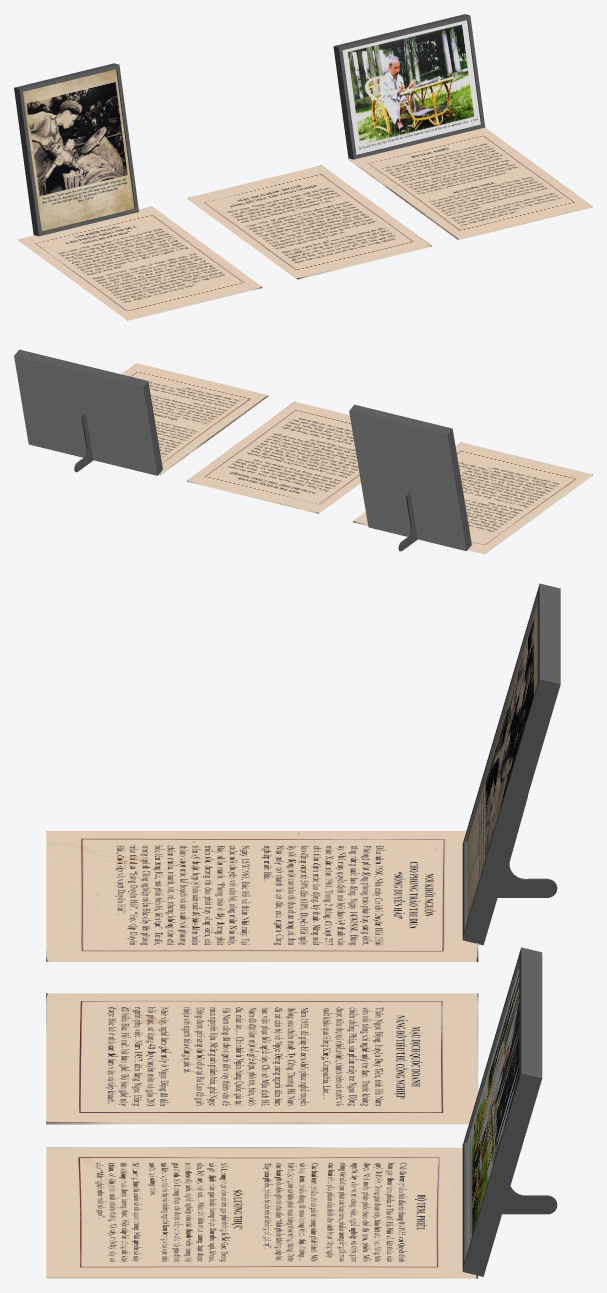
Rendered from nha_may_duyen_hai_bac_ho_tren_ghe_may.glb.
3 renders of one model, top to bottom at view 1: azimuth 30°, elevation 25°; view 2: azimuth 150°, elevation 25°; view 3: azimuth 270°, elevation 25°, orthographic. The views are drawn at different scales.
Visible parts, largest first — view 1: Mesh12_Model_17_2_4_0, Mesh5_Model_17_2_3_0, Mesh9_Model_17_2_5_0, Mesh2_Model_17_2_2_0, Mesh15_Model_17_2_1_0, Mesh15_PDM_Black_plastic_VP_Picture_1_0, Mesh2_PDM_Black_plastic_VP_Picture_1_0; view 2: Mesh12_Model_17_2_4_0, Mesh15_PDM_White_VP_Picture_14_0, Mesh2_PDM_White_VP_Picture_14_0, Mesh5_Model_17_2_3_0, Mesh9_Model_17_2_5_0, Mesh2_PDM_Black_plastic_VP_Picture_1_0, Mesh15_PDM_Black_plastic_VP_Picture_1_0, Mesh16_PDM_Black_plastic_VP_Picture_1_0, Mesh1_PDM_Black_plastic_VP_Picture_1_0; view 3: Mesh12_Model_17_2_4_0, Mesh9_Model_17_2_5_0, Mesh5_Model_17_2_3_0, Mesh15_PDM_Black_plastic_VP_Picture_1_0, Mesh2_PDM_Black_plastic_VP_Picture_1_0, Mesh2_Model_17_2_2_0, Mesh15_Model_17_2_1_0, Mesh16_PDM_Black_plastic_VP_Picture_1_0, Mesh1_PDM_Black_plastic_VP_Picture_1_0.
Part boxes in pixels (x1,y1,x2,y2): Mesh12_Model_17_2_4_0: (187, 165, 431, 278); Mesh5_Model_17_2_3_0: (18, 206, 261, 319); Mesh9_Model_17_2_5_0: (348, 127, 592, 239); Mesh2_Model_17_2_2_0: (342, 20, 480, 154); Mesh15_Model_17_2_1_0: (23, 69, 134, 231); Mesh15_PDM_Black_plastic_VP_Picture_1_0: (14, 63, 138, 236); Mesh2_PDM_Black_plastic_VP_Picture_1_0: (333, 14, 485, 159); Mesh12_Model_17_2_4_0: (187, 401, 360, 512); Mesh15_PDM_White_VP_Picture_14_0: (349, 411, 466, 551); Mesh2_PDM_White_VP_Picture_14_0: (14, 356, 157, 475); Mesh5_Model_17_2_3_0: (353, 442, 592, 553); Mesh9_Model_17_2_5_0: (121, 363, 267, 474); Mesh2_PDM_Black_plastic_VP_Picture_1_0: (14, 349, 162, 475); Mesh15_PDM_Black_plastic_VP_Picture_1_0: (349, 404, 471, 550); Mesh16_PDM_Black_plastic_VP_Picture_1_0: (398, 492, 417, 551); Mesh1_PDM_Black_plastic_VP_Picture_1_0: (74, 413, 93, 472); Mesh12_Model_17_2_4_0: (46, 993, 478, 1122); Mesh9_Model_17_2_5_0: (46, 1147, 478, 1276); Mesh5_Model_17_2_3_0: (46, 831, 478, 959); Mesh15_PDM_Black_plastic_VP_Picture_1_0: (462, 583, 560, 945); Mesh2_PDM_Black_plastic_VP_Picture_1_0: (462, 947, 542, 1276); Mesh2_Model_17_2_2_0: (467, 968, 519, 1251); Mesh15_Model_17_2_1_0: (467, 604, 537, 919); Mesh16_PDM_Black_plastic_VP_Picture_1_0: (497, 796, 557, 897); Mesh1_PDM_Black_plastic_VP_Picture_1_0: (502, 1186, 557, 1214).
Size of the model in its own units: 7.25 by 2.02 by 3.54.
7 materials, 5 textured.
